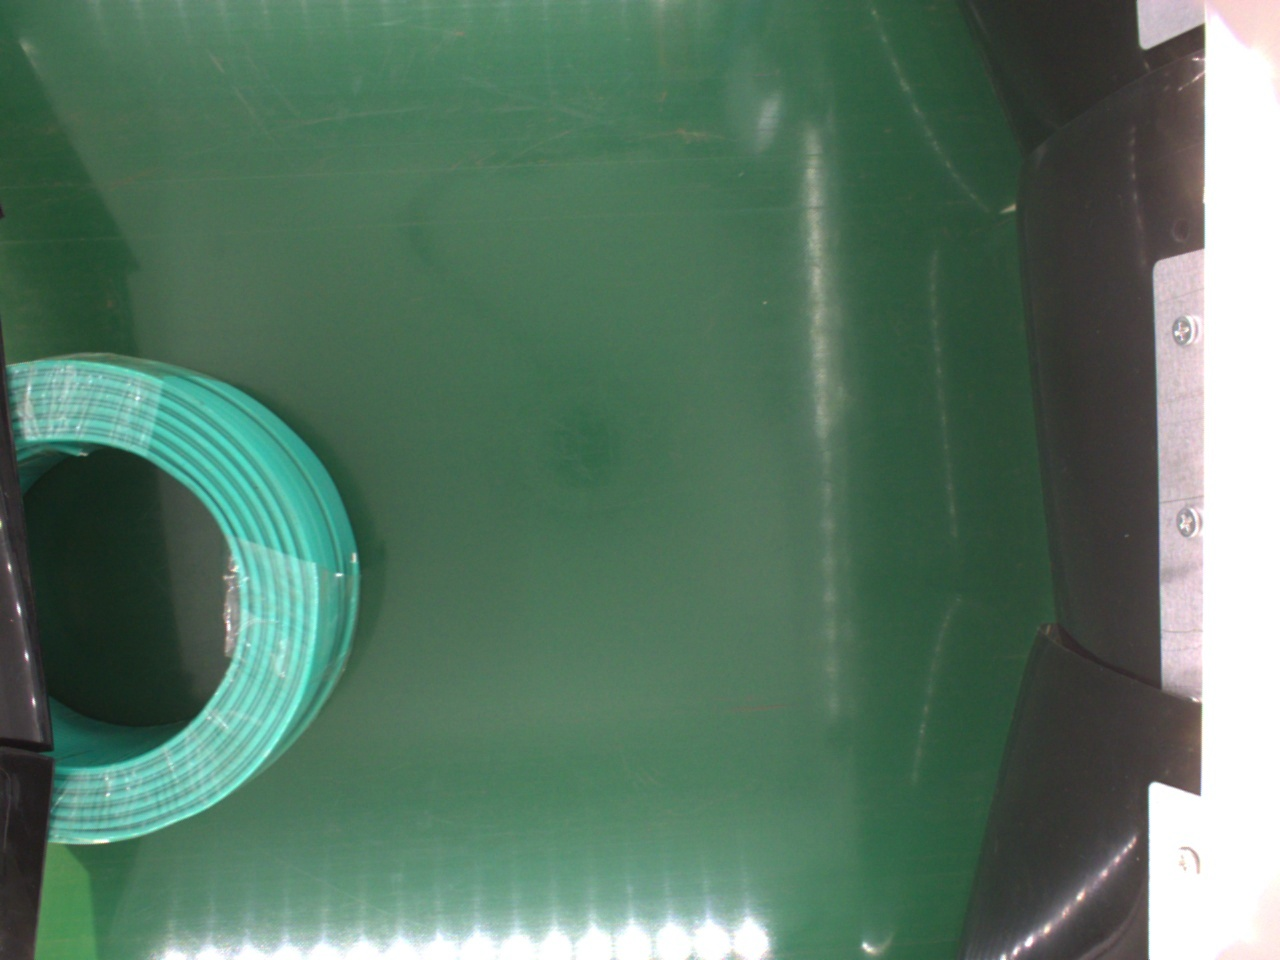green: (10, 355, 355, 852)
